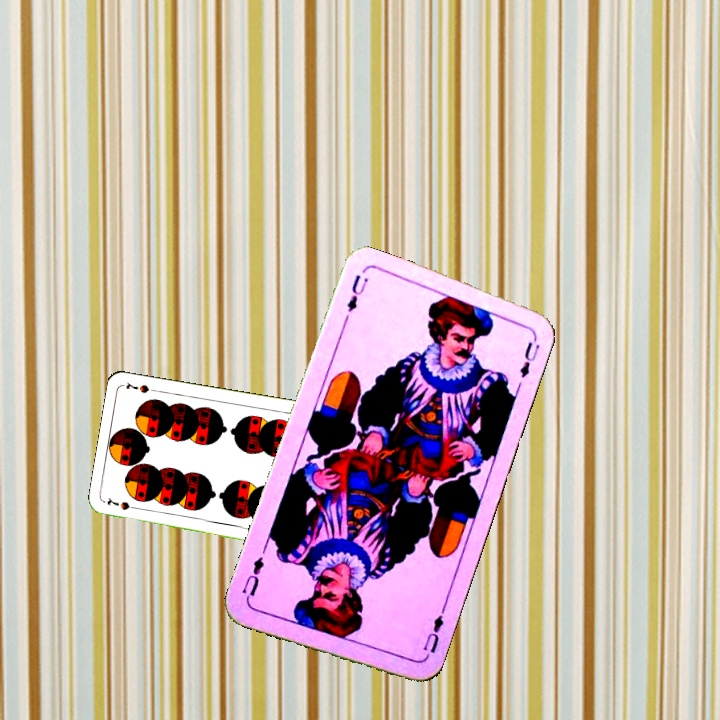EU: (416, 605, 448, 662), (342, 270, 370, 315)
S7: (103, 495, 143, 513)
